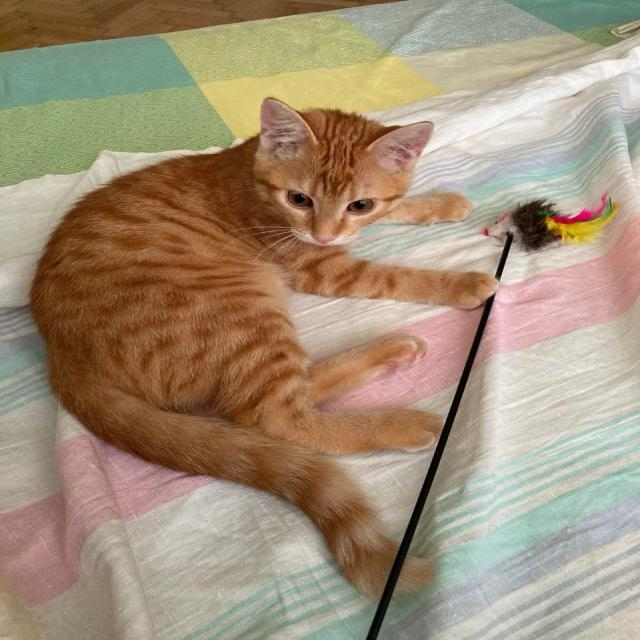red_cat: (0, 93, 480, 576)
